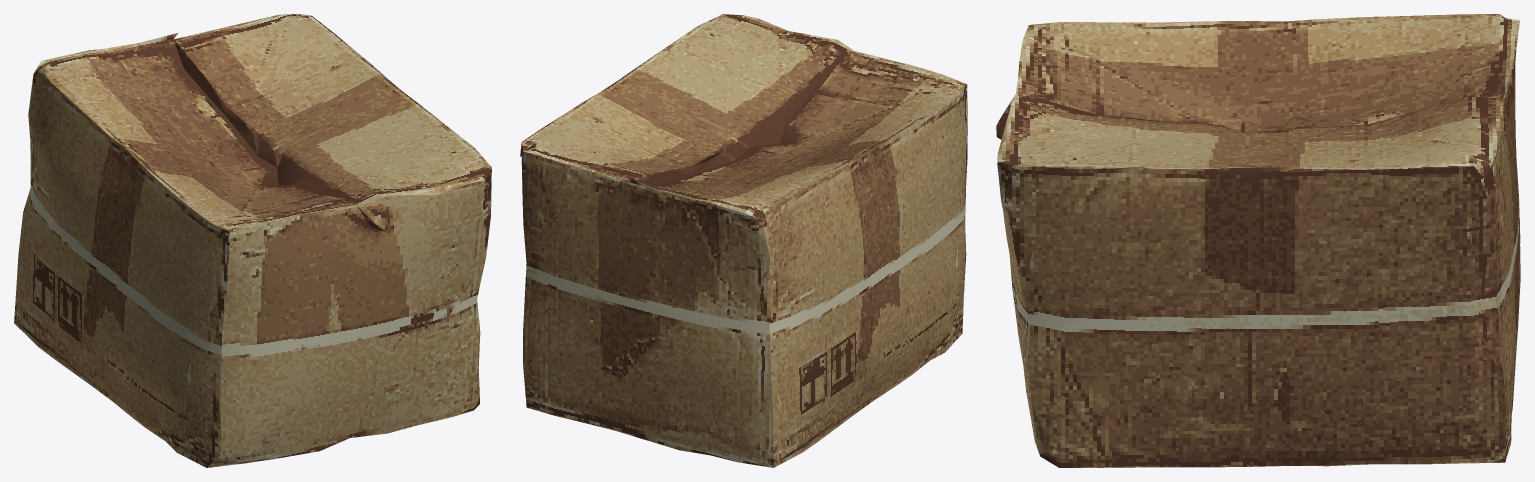
The model's file is cardboard_box_01.glb.
3 renders of one model, left to right at view 1: azimuth 30°, elevation 25°; view 2: azimuth 150°, elevation 25°; view 3: azimuth 270°, elevation 25°, orthographic. The views are drawn at different scales.
Parts seen in each view (by area): view 1: body; view 2: body; view 3: body.
Part boxes in pixels (<box>): body: <box>14,14,491,467</box>; body: <box>520,14,967,467</box>; body: <box>996,14,1520,467</box>.
Bounding box in the file's own units: 0.3923 × 0.3418 × 0.52.
Materials: 1 (1 with a texture image).
